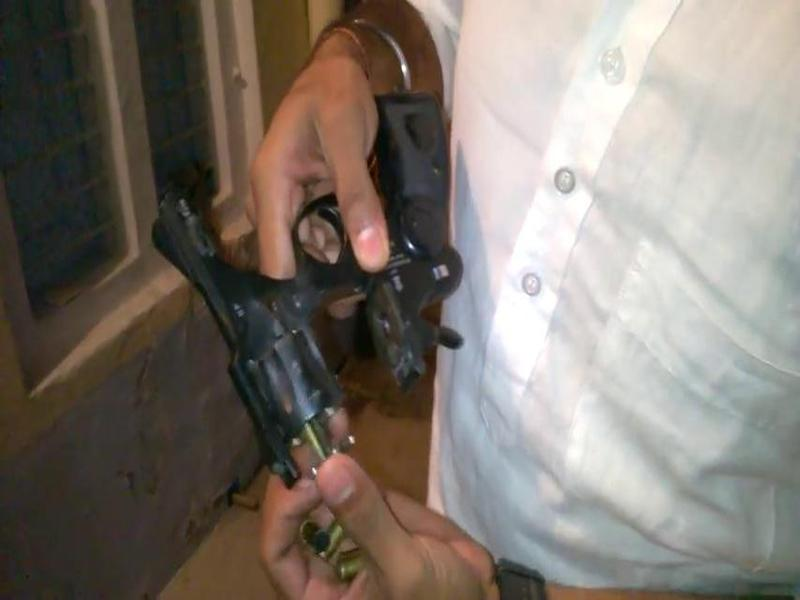Revolver: (105, 171, 353, 503)
